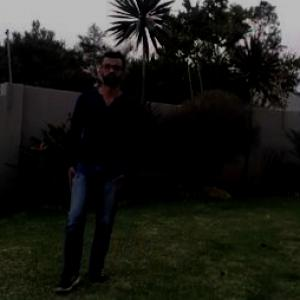follow: (53, 22, 145, 299)
